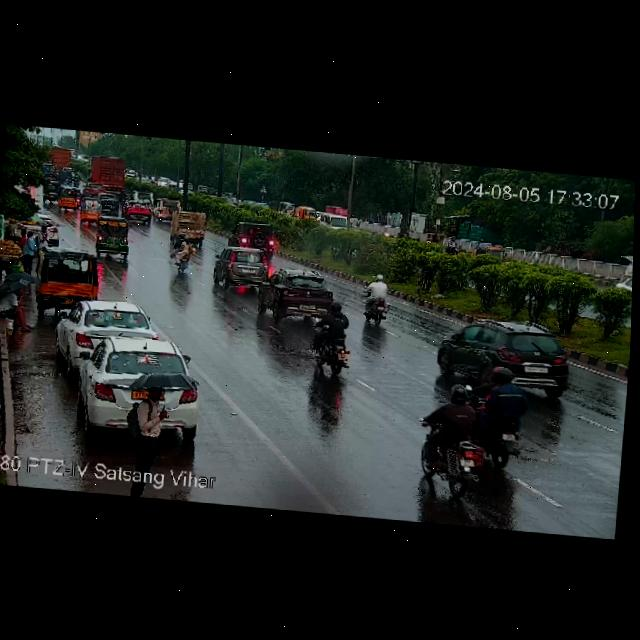car: (83, 335, 207, 440), (445, 320, 568, 393), (63, 298, 153, 365), (261, 269, 332, 320), (39, 247, 102, 298), (214, 248, 271, 284), (230, 221, 284, 254), (94, 218, 132, 258), (169, 213, 206, 238), (470, 243, 507, 266), (153, 197, 187, 221), (78, 196, 104, 220), (123, 200, 150, 222), (61, 184, 84, 208), (319, 213, 355, 228), (612, 272, 633, 296)
motorcycle: (422, 387, 482, 497), (476, 375, 528, 470), (307, 295, 358, 376), (361, 269, 388, 325), (167, 234, 201, 270)
person: (130, 383, 174, 497), (0, 278, 35, 336), (20, 229, 38, 274), (36, 227, 50, 253)
truck: (91, 155, 126, 194), (46, 147, 79, 173)
